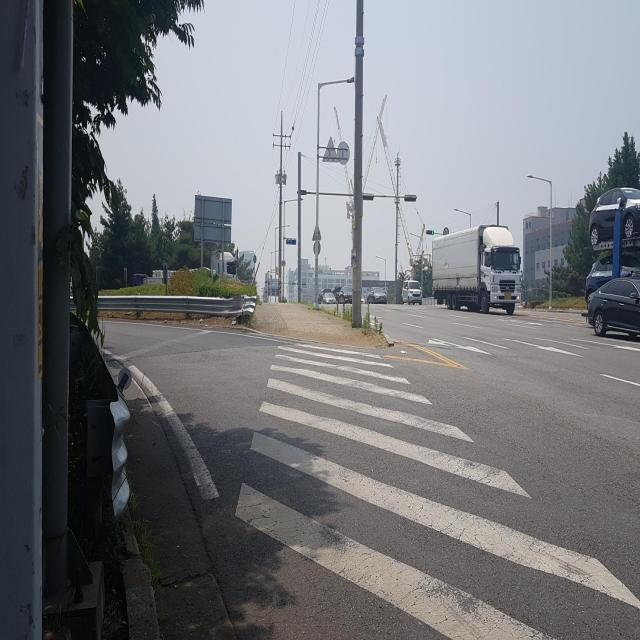횡단보도: (235, 340, 640, 640)
